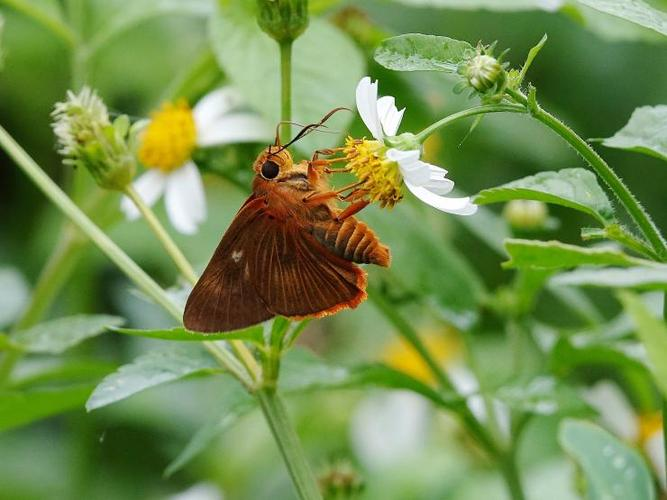Hesperiidae: (181, 103, 396, 335)
